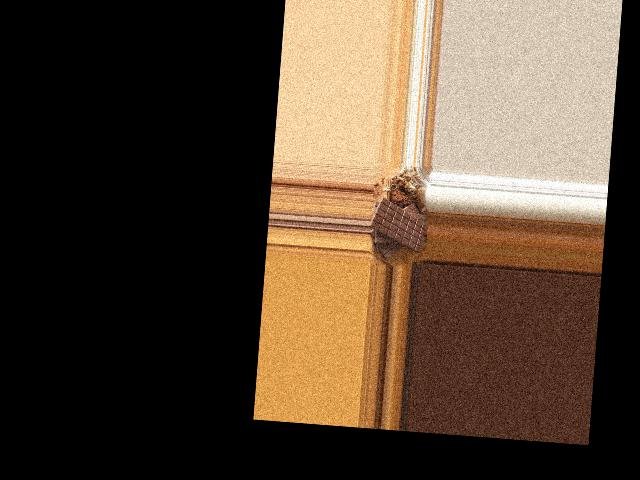chocolate: (368, 193, 428, 254)
